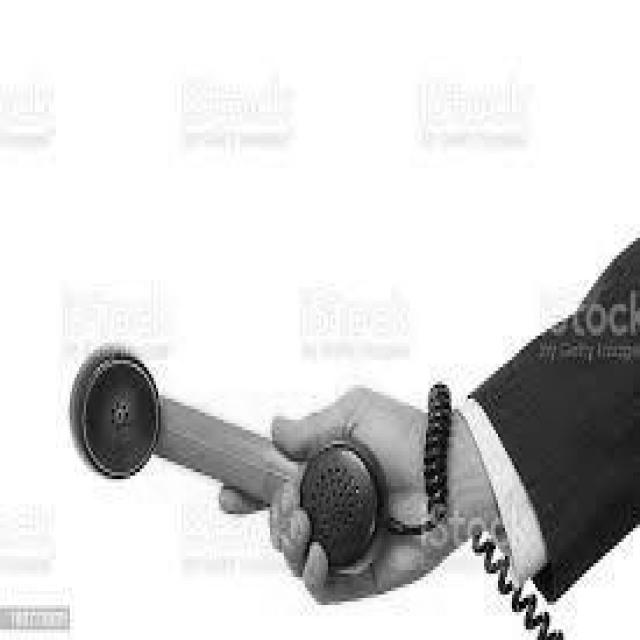No gun_phone: (71, 351, 387, 574)
